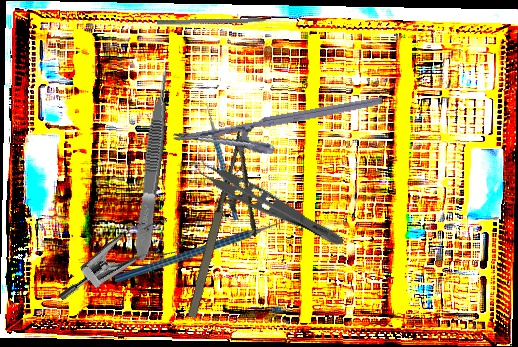Chopper: (115, 207, 294, 282), (187, 99, 249, 221)
Hook Surgical: (156, 17, 282, 27)
Needle Holder: (181, 124, 286, 328), (172, 95, 388, 171)
Speculum: (56, 195, 191, 338)
Tissue Forceps: (186, 150, 352, 250), (130, 67, 177, 262)
